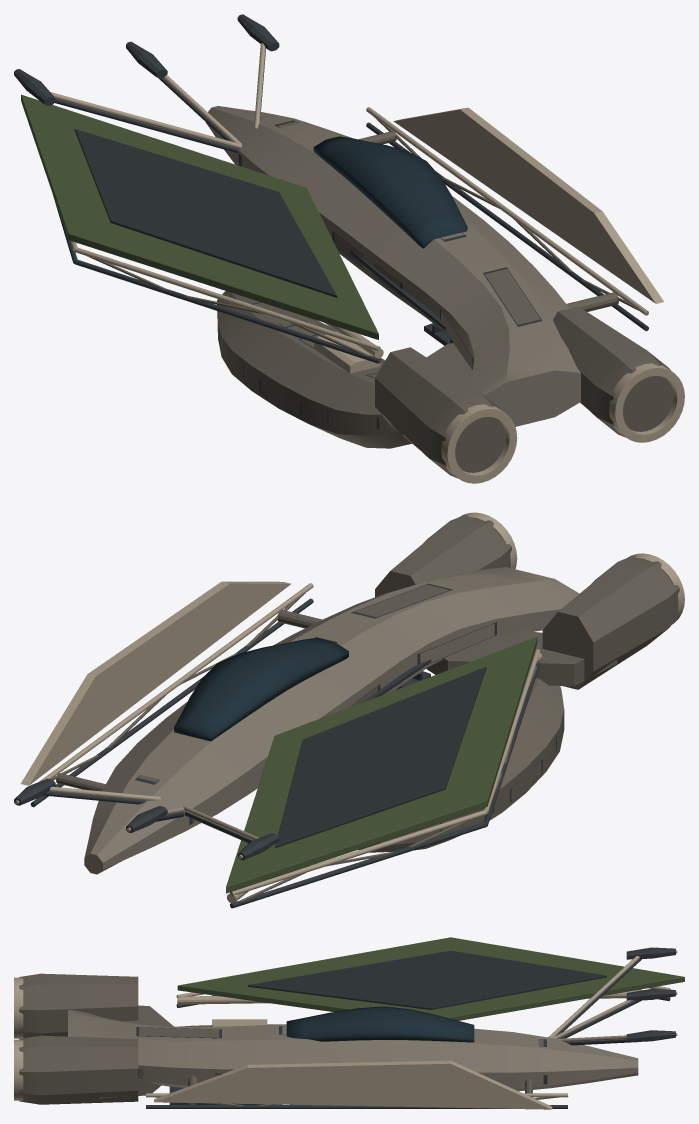
File: cruiser_roaming_kite.glb
The picture shows the model from 3 angles, top to bottom: view 1: azimuth 30°, elevation 25°; view 2: azimuth 150°, elevation 25°; view 3: azimuth 270°, elevation 25°; orthographic projection. The views are drawn at different scales.
Visible parts, largest first — view 1: v4_roaming_secondary, v4_roaming_hull, v4_roaming_trim, v4_roaming_paint, v4_roaming_ceramic, v4_roaming_dark, v4_roaming_glass; view 2: v4_roaming_hull, v4_roaming_secondary, v4_roaming_paint, v4_roaming_trim, v4_roaming_ceramic, v4_roaming_glass, v4_roaming_dark; view 3: v4_roaming_hull, v4_roaming_trim, v4_roaming_secondary, v4_roaming_paint, v4_roaming_ceramic, v4_roaming_glass, v4_roaming_dark.
Boxes of the visible parts, bbox=[...] form: v4_roaming_secondary: bbox=[63, 101, 673, 478]; v4_roaming_hull: bbox=[205, 106, 580, 426]; v4_roaming_trim: bbox=[50, 43, 684, 483]; v4_roaming_paint: bbox=[21, 94, 378, 339]; v4_roaming_ceramic: bbox=[74, 129, 453, 343]; v4_roaming_dark: bbox=[14, 14, 648, 429]; v4_roaming_glass: bbox=[313, 136, 467, 248]; v4_roaming_hull: bbox=[84, 567, 579, 874]; v4_roaming_secondary: bbox=[51, 514, 679, 905]; v4_roaming_paint: bbox=[226, 637, 537, 893]; v4_roaming_trim: bbox=[15, 512, 684, 903]; v4_roaming_ceramic: bbox=[275, 667, 486, 847]; v4_roaming_glass: bbox=[174, 637, 348, 741]; v4_roaming_dark: bbox=[14, 583, 556, 908]; v4_roaming_hull: bbox=[68, 1009, 638, 1091]; v4_roaming_trim: bbox=[14, 950, 677, 1109]; v4_roaming_secondary: bbox=[19, 966, 669, 1105]; v4_roaming_paint: bbox=[177, 937, 684, 1020]; v4_roaming_ceramic: bbox=[181, 950, 606, 1088]; v4_roaming_glass: bbox=[286, 1006, 474, 1042]; v4_roaming_dark: bbox=[136, 947, 675, 1108].
Size of the model in its own units: 51.52 by 20.26 by 98.74.
